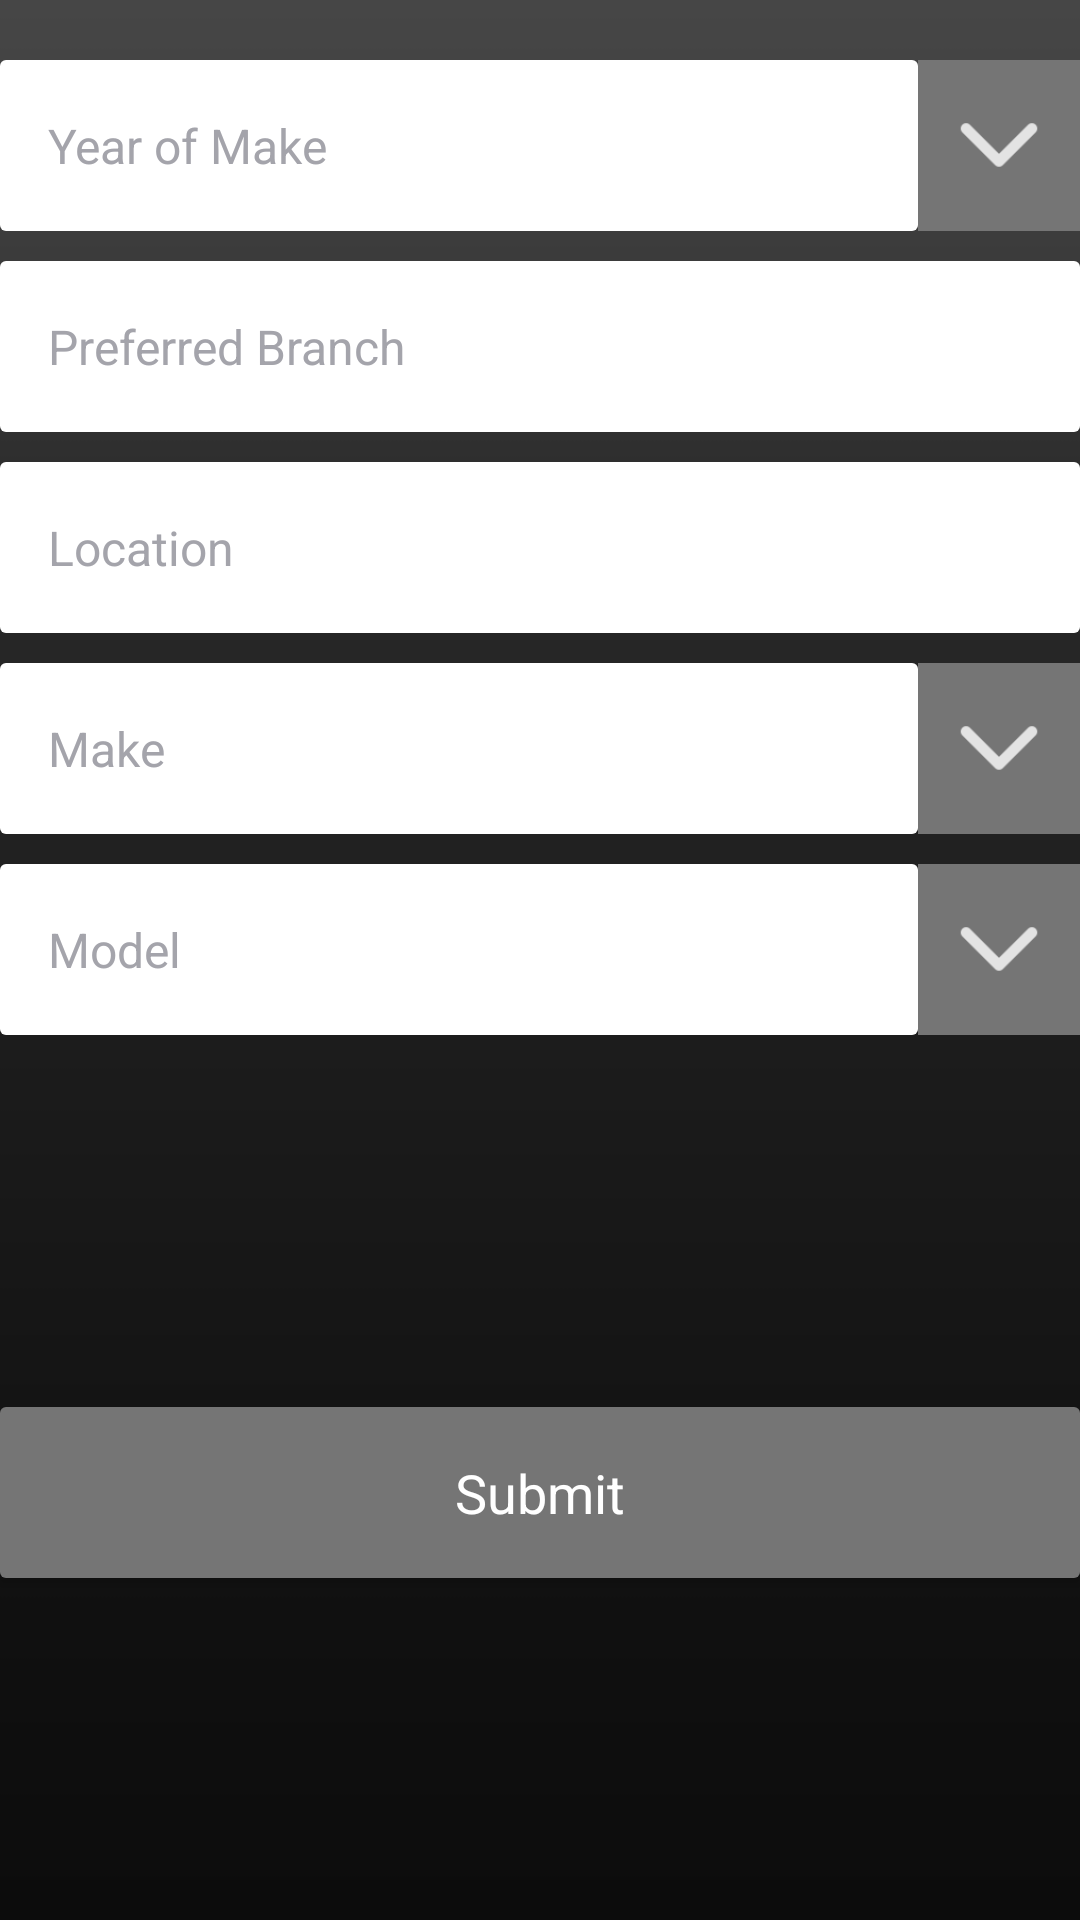

Where icons sit on this 1080×1920 app screen, as (x1,y1,x2,y2):
down: (918,60,1080,231), (918,663,1080,834), (918,864,1080,1035)
